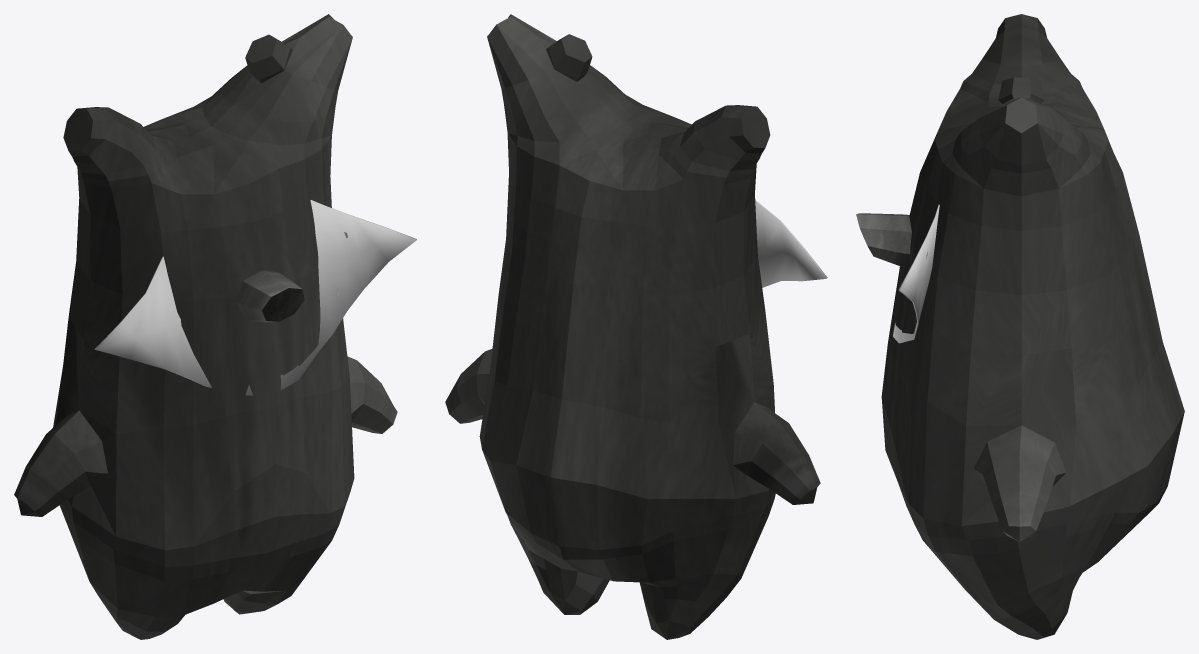
File: frame_0027.obj
3 renders of one model, left to right at view 1: azimuth 30°, elevation 25°; view 2: azimuth 150°, elevation 25°; view 3: azimuth 270°, elevation 25°, orthographic. The views are drawn at different scales.
Visible parts, largest first — view 1: korok, leaf, nose; view 2: korok, leaf; view 3: korok, nose, leaf.
Part boxes in pixels (x1,y1,x2,y2): korok: (14,14,397,639); leaf: (94,200,416,395); nose: (236,270,304,322); korok: (445,14,820,639); leaf: (755,200,827,287); korok: (881,14,1184,639); nose: (856,213,911,267); leaf: (893,204,939,343).
Bounding box in the file's own units: 1.65 × 2.44 × 1.27.
